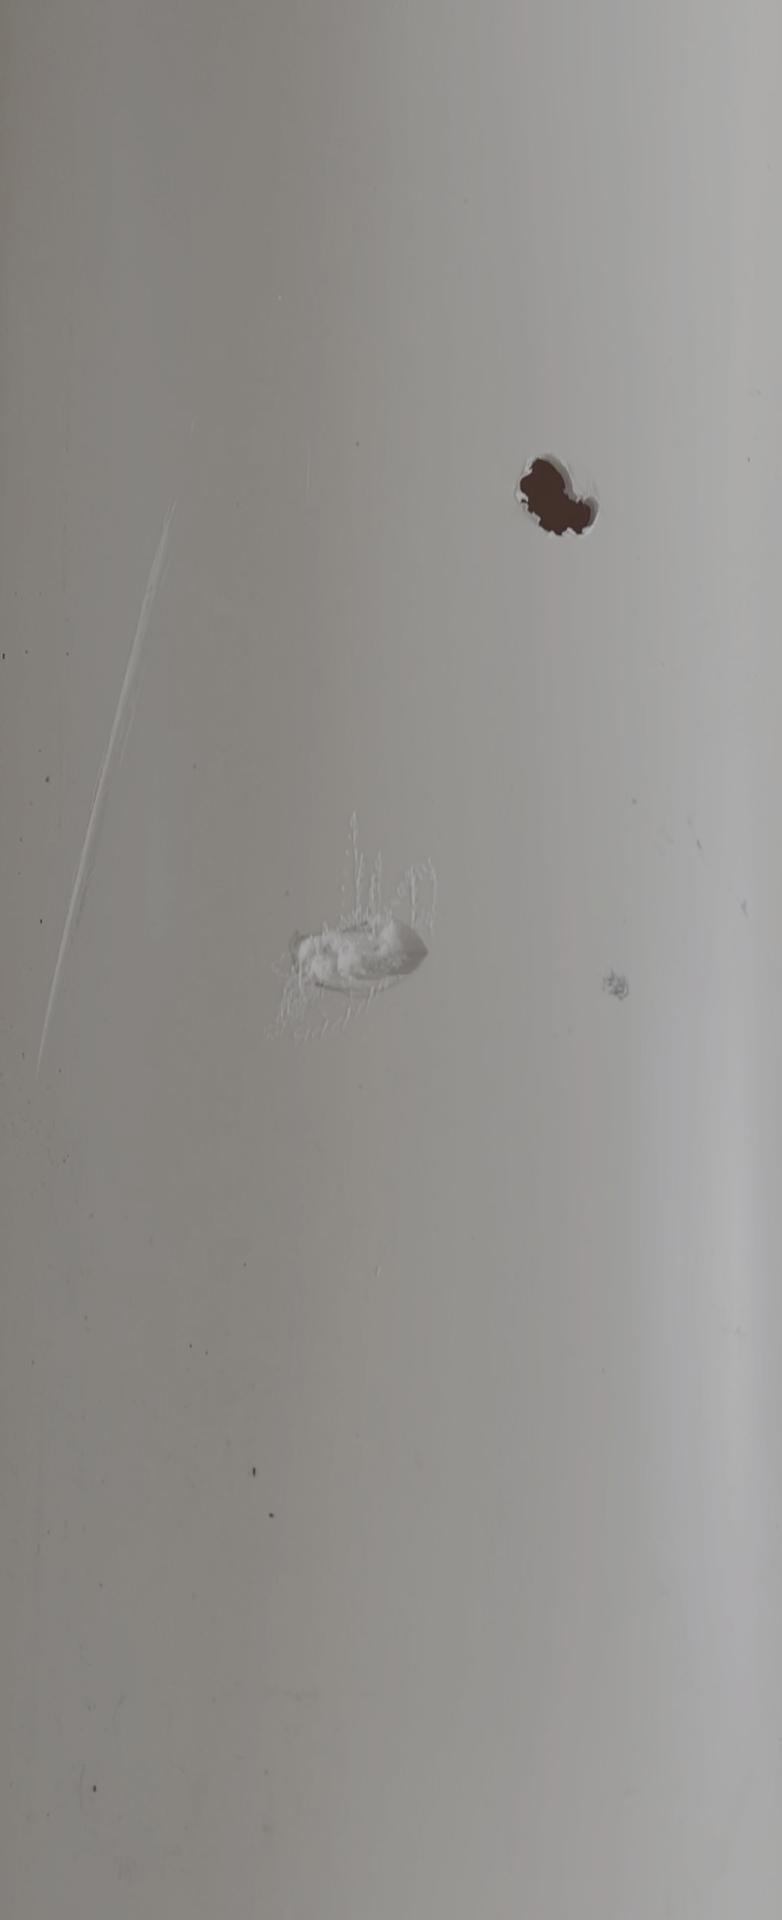kongdong: (501, 433, 607, 547)
sunshang: (34, 501, 186, 1095), (281, 901, 454, 996)
